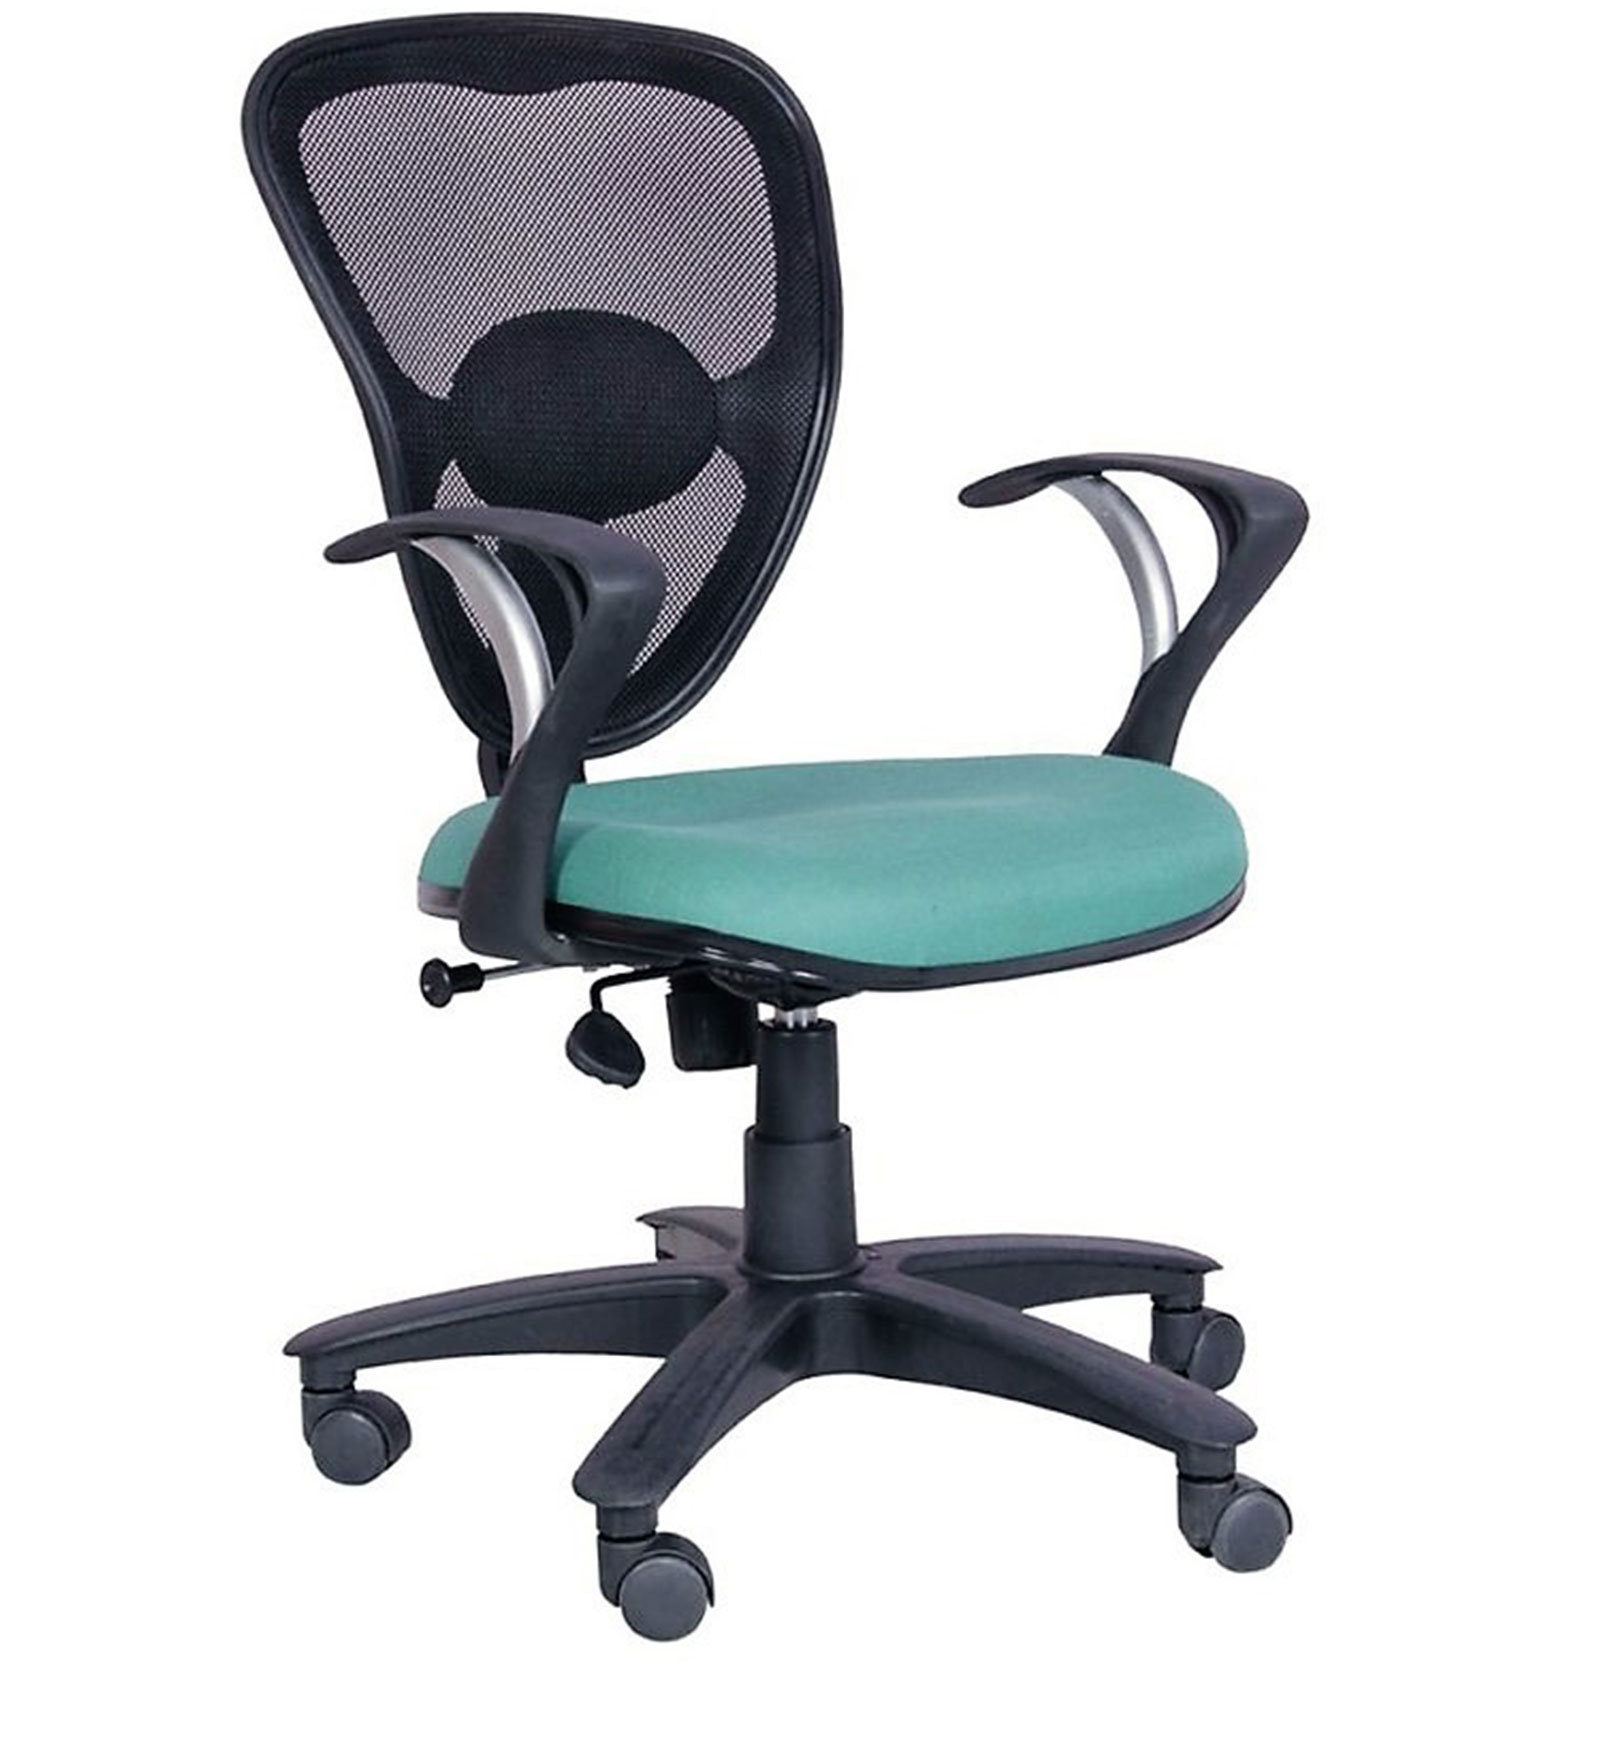Triangular Back Ergonomic Chair with Green Seat by Adiko Systems: (136, 18, 1408, 1659)
